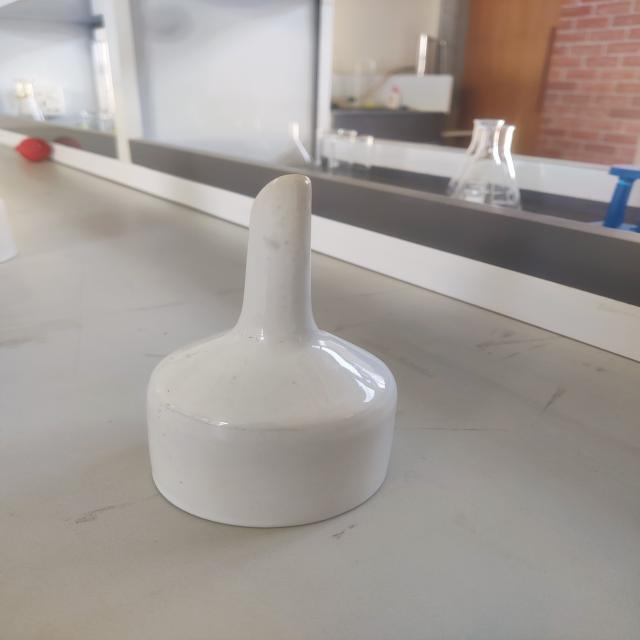Buchner_Funnel: (131, 142, 425, 554)
